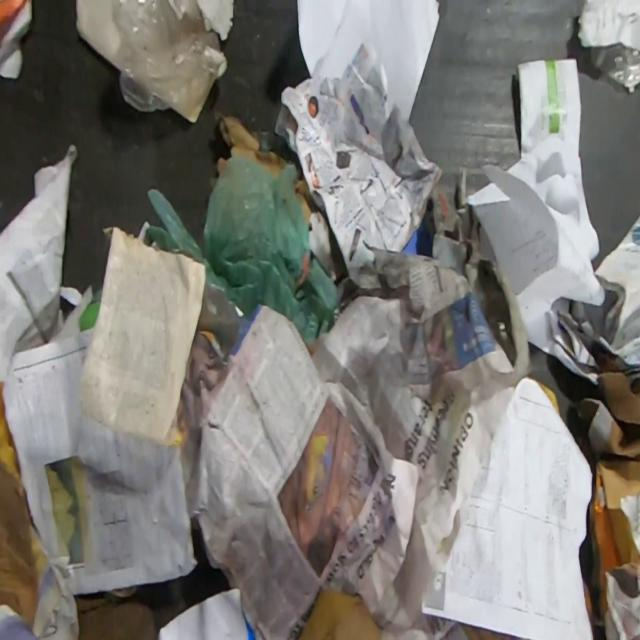cardboard: (582, 454, 640, 629), (0, 463, 39, 627), (574, 367, 640, 461), (215, 113, 287, 177), (296, 587, 380, 640), (73, 594, 157, 640), (75, 0, 120, 65), (195, 0, 234, 42), (294, 169, 320, 224), (204, 46, 228, 80)
soft_plastic: (144, 156, 338, 345), (111, 0, 222, 118), (482, 293, 520, 365), (589, 43, 640, 90)
